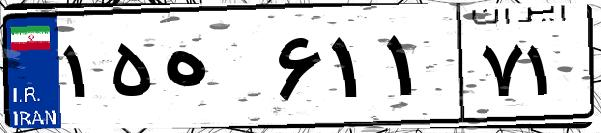1: (385, 28, 445, 110), (330, 28, 385, 110), (57, 26, 110, 100), (525, 38, 570, 115)
5: (110, 28, 158, 98)
6: (270, 28, 330, 110)
7: (475, 38, 525, 113)
ه: (158, 20, 270, 120)
